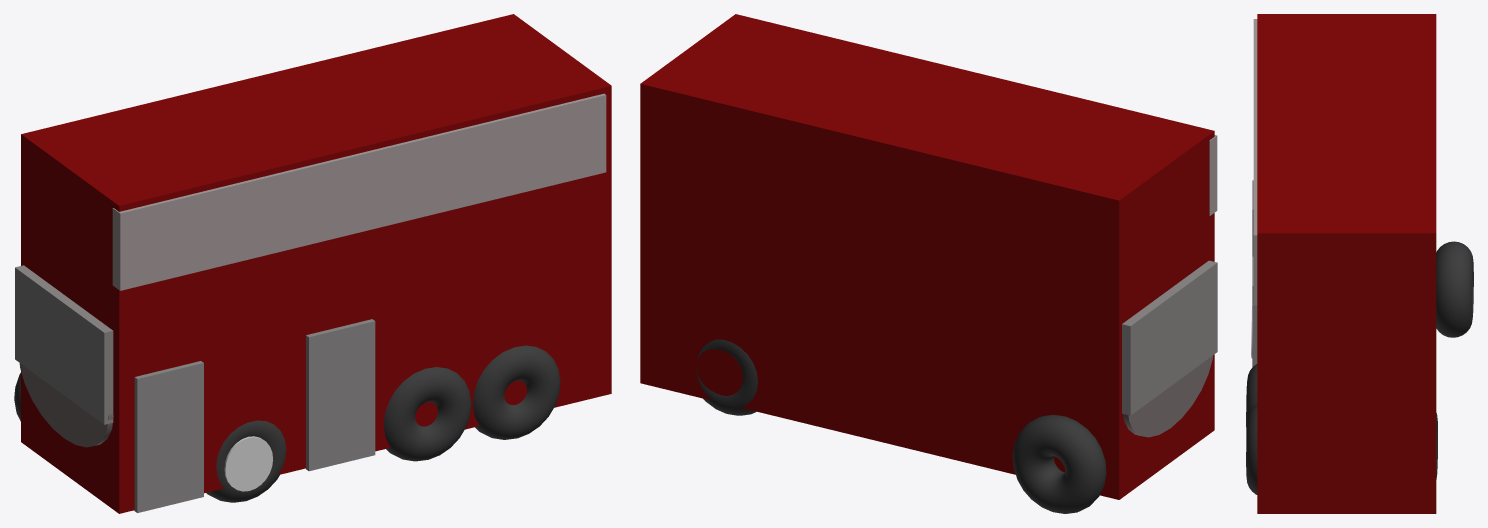
File: sg-bus.gltf
3 views of the same model, side by side, from view 1: azimuth 30°, elevation 25°; view 2: azimuth 150°, elevation 25°; view 3: azimuth 270°, elevation 25° (orthographic). The views are drawn at different scales.
Parts seen in each view (by area): view 1: Box, Box3, Box4, Box1, Box2, Torus4, Torus3, Cylinder1, Torus2, Cylinder; view 2: Box, Box4, Torus1, Cylinder1, Torus, Box3; view 3: Box, Torus1, Box3, Torus3, Torus4, Box2.
Part boxes in pixels (x1,y1,x2,y2): Box: (21,14,611,513); Box3: (112,93,606,290); Box4: (15,265,113,424); Box1: (134,361,203,512); Box2: (306,319,375,471); Torus4: (383,367,471,461); Torus3: (473,345,560,439); Cylinder1: (19,363,113,447); Torus2: (206,420,286,502); Cylinder: (224,436,272,491); Box: (640,14,1214,499); Box4: (1122,260,1217,415); Torus1: (1012,414,1106,513); Cylinder1: (1123,355,1212,437); Torus: (696,339,757,415); Box3: (1209,135,1217,215); Box: (1257,14,1436,513); Torus1: (1436,241,1473,337); Box3: (1253,19,1257,305); Torus3: (1246,404,1257,494); Torus4: (1246,364,1257,433); Box2: (1252,256,1257,366).
Bounding box in the file's own units: 5.44 × 3.45 × 2.35.
